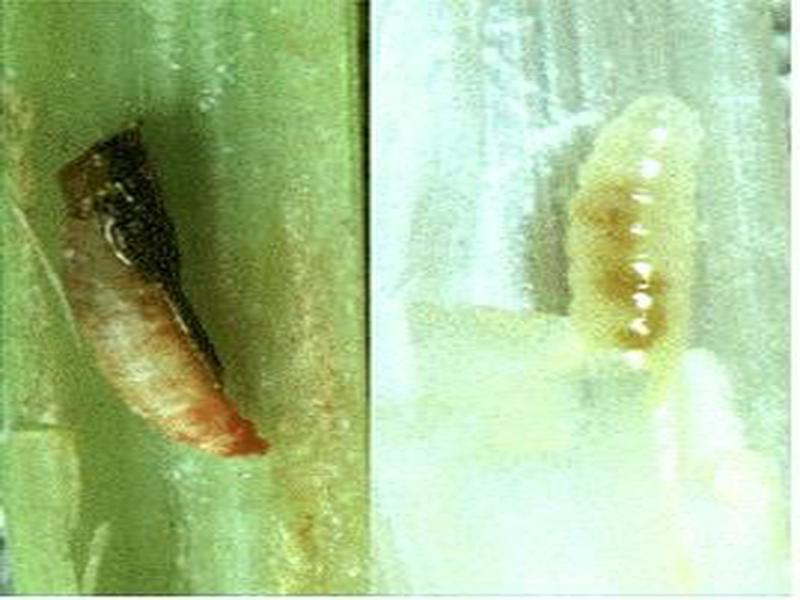Rice_horned_caterpillar: (33, 117, 286, 500), (570, 80, 710, 444)
